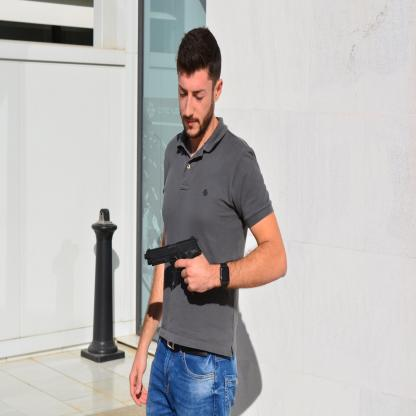pistol: (144, 235, 202, 273)
